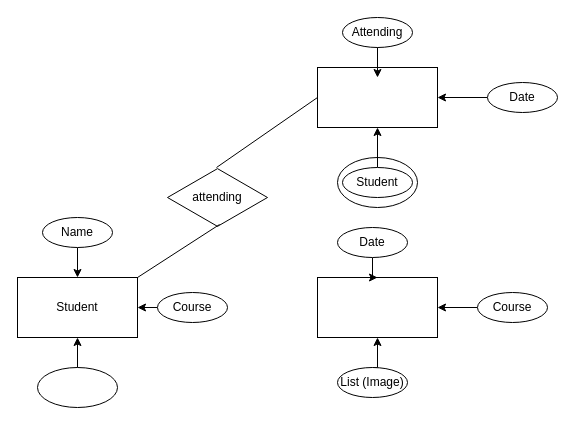
Image size: 575x425. Some labels were removed from this diagram. The centre of each missing label's shape, as x and y in pixels:
"Attendance" goes at pixel 377 97.
"AttendanceList" goes at pixel 377 307.
"Status of Matriculation" goes at pixel 77 387.
